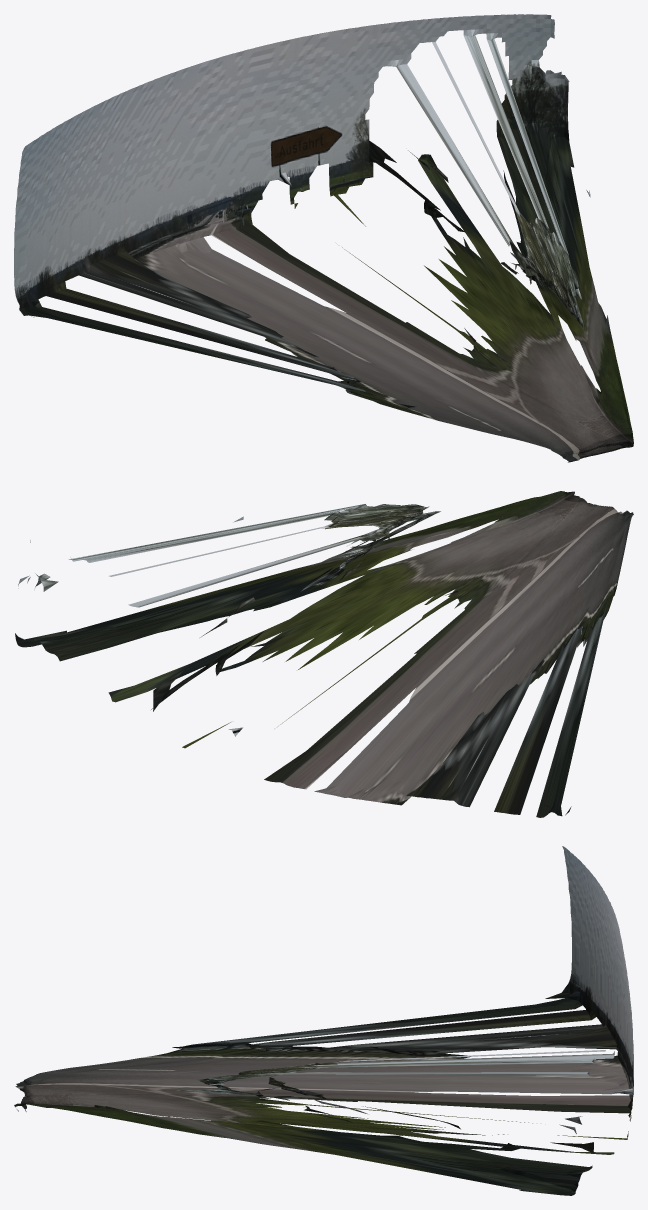
3 renders of one model, top to bottom at view 1: azimuth 30°, elevation 25°; view 2: azimuth 150°, elevation 25°; view 3: azimuth 270°, elevation 25°, orthographic. The views are drawn at different scales.
Parts seen in each view (by area): view 1: defaultobject; view 2: defaultobject; view 3: defaultobject.
Part boxes in pixels (x1,y1,x2,y2): defaultobject: (14, 14, 633, 462); defaultobject: (15, 491, 633, 817); defaultobject: (14, 846, 633, 1195).
Bounding box in the file's own units: 41.12 × 13.16 × 44.7.
1 material, 1 textured.
